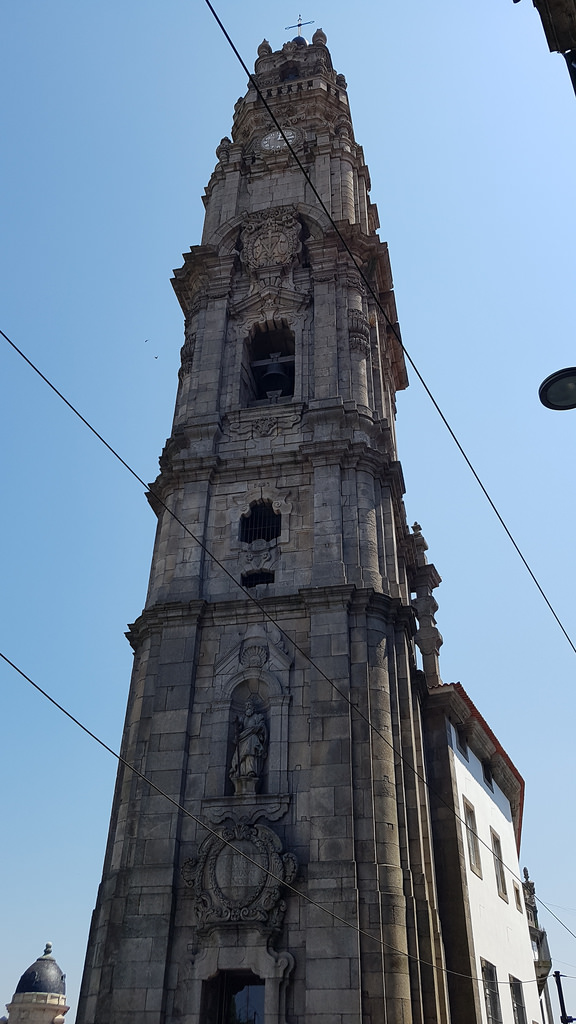clerigos: (73, 10, 456, 1023)
